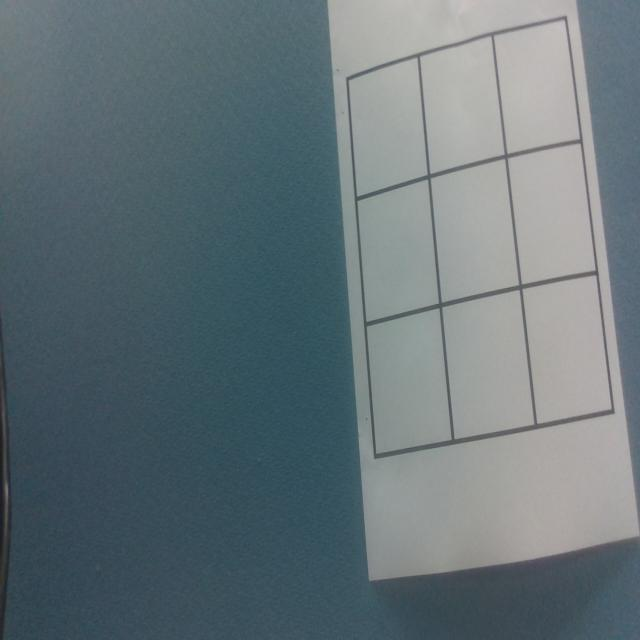null: (442, 287, 537, 446), (526, 273, 615, 431), (430, 159, 522, 310), (368, 305, 452, 458), (509, 145, 598, 288), (359, 179, 440, 327), (496, 20, 581, 157), (421, 39, 505, 176), (350, 60, 426, 199)
table: (345, 18, 620, 465)
